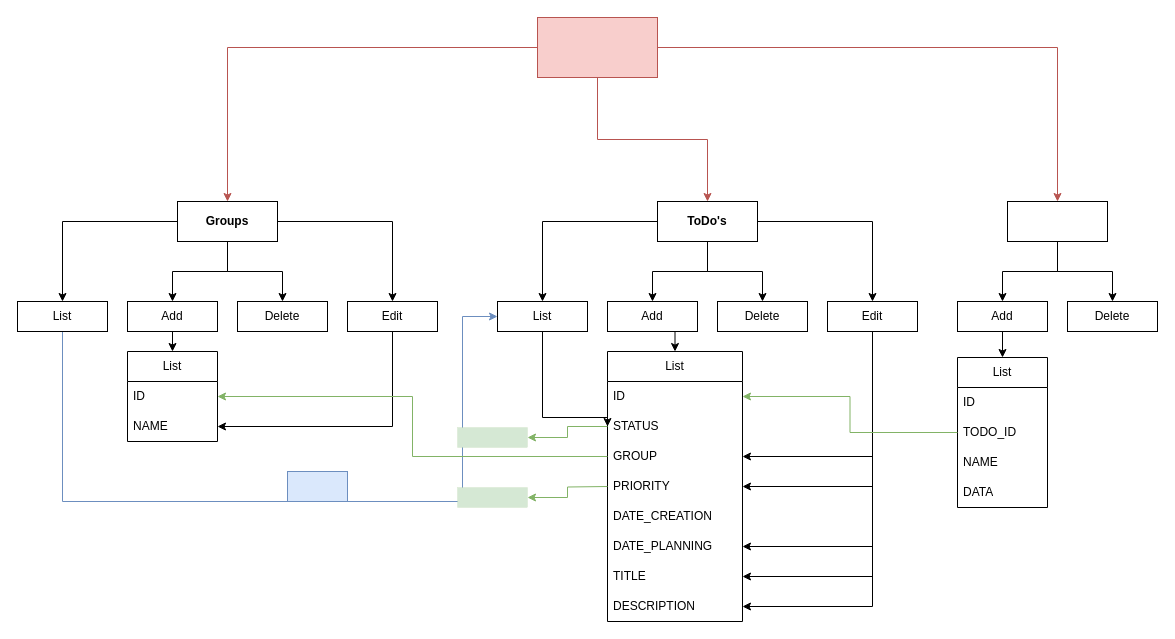
The diagram is 1175 pixels wide and 639 high, and some of its shapes have lost their labels. Here are the shapes that lost their labels. From the top down, the centre of each, then its label:
[597,47]: BACKEND
[1057,221]: Attachments
[492,437]: Enum
[317,486]: FRONT
[492,497]: Int (0,5)
